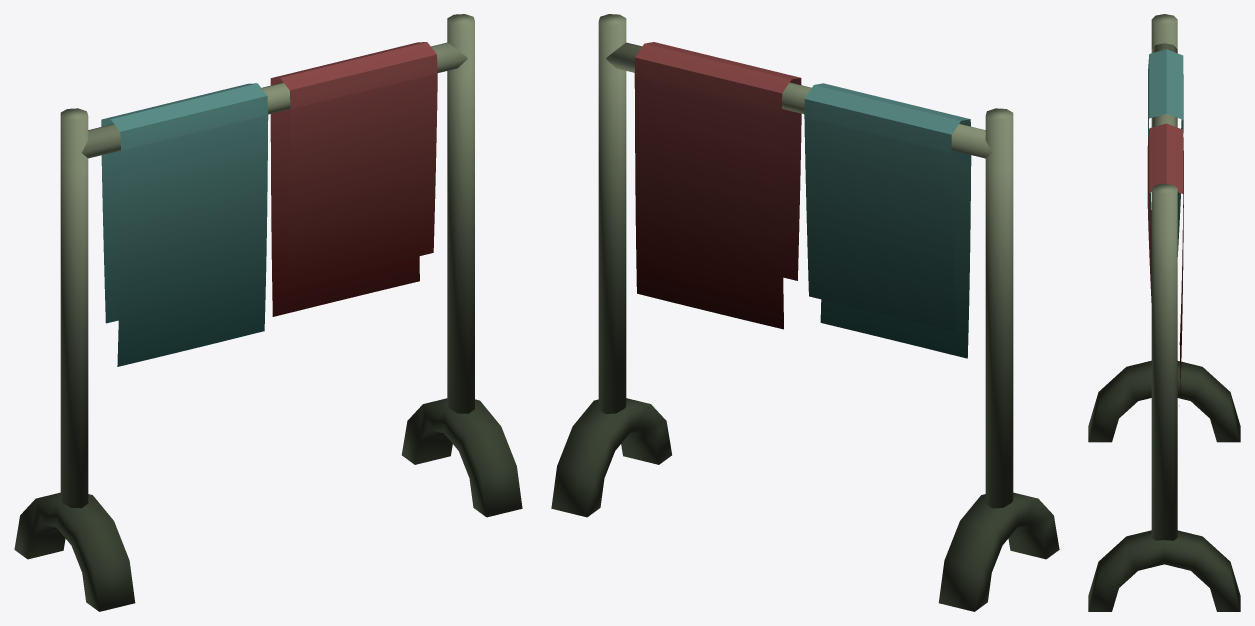
Rendered from Jemuran.fbx.
3 renders of one model, left to right at view 1: azimuth 30°, elevation 25°; view 2: azimuth 150°, elevation 25°; view 3: azimuth 270°, elevation 25°, orthographic. The views are drawn at different scales.
Visible parts, largest first — view 1: Plane, Plane.001, Cylinder.001, Cylinder; view 2: Plane.001, Plane, Cylinder.001, Cylinder; view 3: Cylinder, Cylinder.001, Plane.001, Plane.
Boxes of the visible parts, box(x1,y1,x2,y2) form: Plane: box(101, 83, 268, 366); Plane.001: box(270, 42, 437, 316); Cylinder.001: box(60, 14, 474, 508); Cylinder: box(14, 398, 522, 611); Plane.001: box(634, 42, 801, 329); Plane: box(804, 83, 971, 358); Cylinder.001: box(598, 14, 1013, 508); Cylinder: box(551, 398, 1059, 611); Cylinder: box(1088, 360, 1240, 611); Cylinder.001: box(1151, 14, 1177, 540); Plane.001: box(1147, 123, 1183, 405); Plane: box(1148, 49, 1183, 256).
Size of the model in its own units: 63.81 by 66.61 by 22.19.
